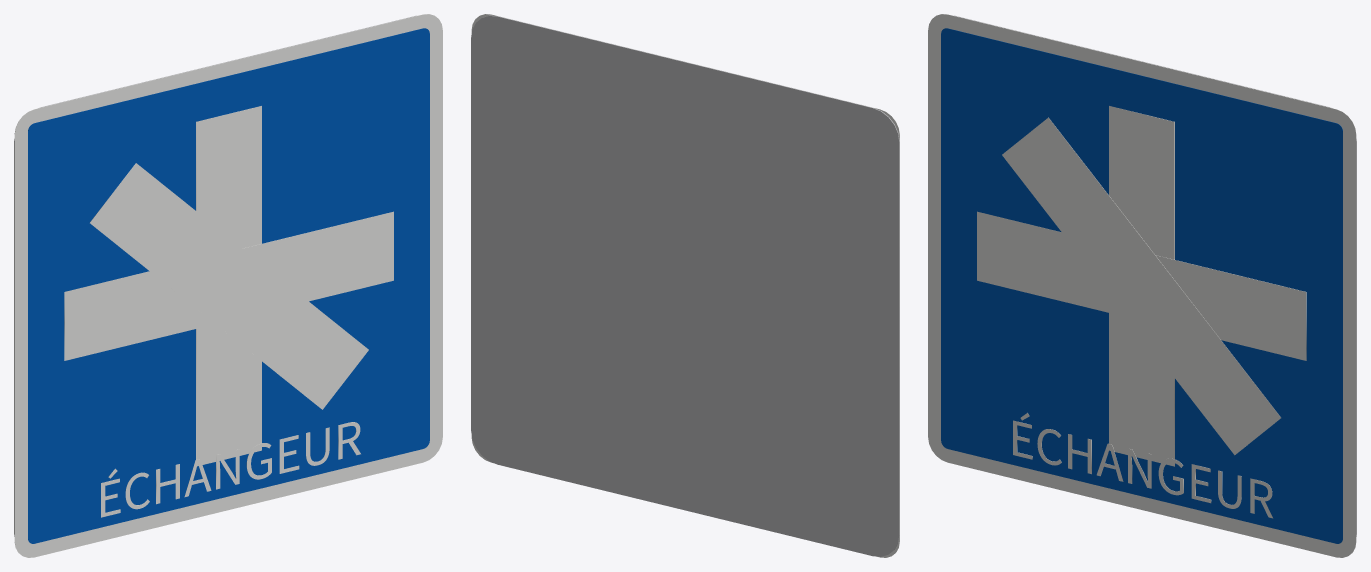
The picture shows the model from 3 angles, left to right: view 1: azimuth 30°, elevation 25°; view 2: azimuth 150°, elevation 25°; view 3: azimuth 330°, elevation 25°; orthographic projection.
Parts seen in each view (by area): view 1: SE2_r01, SE2_r00, SE2_p04, SE2_p03, SE2_p02, SE2_txt05, SE2_dos; view 2: SE2_dos, SE2_r00; view 3: SE2_r01, SE2_r00, SE2_p04, SE2_p03, SE2_p02, SE2_txt05, SE2_dos.
Part boxes in pixels (box(x1,y1,x2,y2)): SE2_r01: box(28, 28, 429, 543); SE2_r00: box(14, 14, 442, 557); SE2_p04: box(90, 163, 368, 409); SE2_p03: box(64, 211, 393, 360); SE2_p02: box(196, 106, 261, 466); SE2_txt05: box(101, 422, 360, 517); SE2_dos: box(14, 15, 416, 536); SE2_dos: box(471, 15, 899, 556); SE2_r00: box(471, 14, 899, 557); SE2_r01: box(941, 28, 1342, 543); SE2_r00: box(928, 14, 1356, 557); SE2_p04: box(1002, 117, 1280, 455); SE2_p03: box(977, 211, 1306, 360); SE2_p02: box(1109, 106, 1174, 466); SE2_txt05: box(1013, 413, 1273, 518); SE2_dos: box(954, 15, 1356, 536).
Size of the model in its own units: 0.65 by 0.65 by 0.0037.
